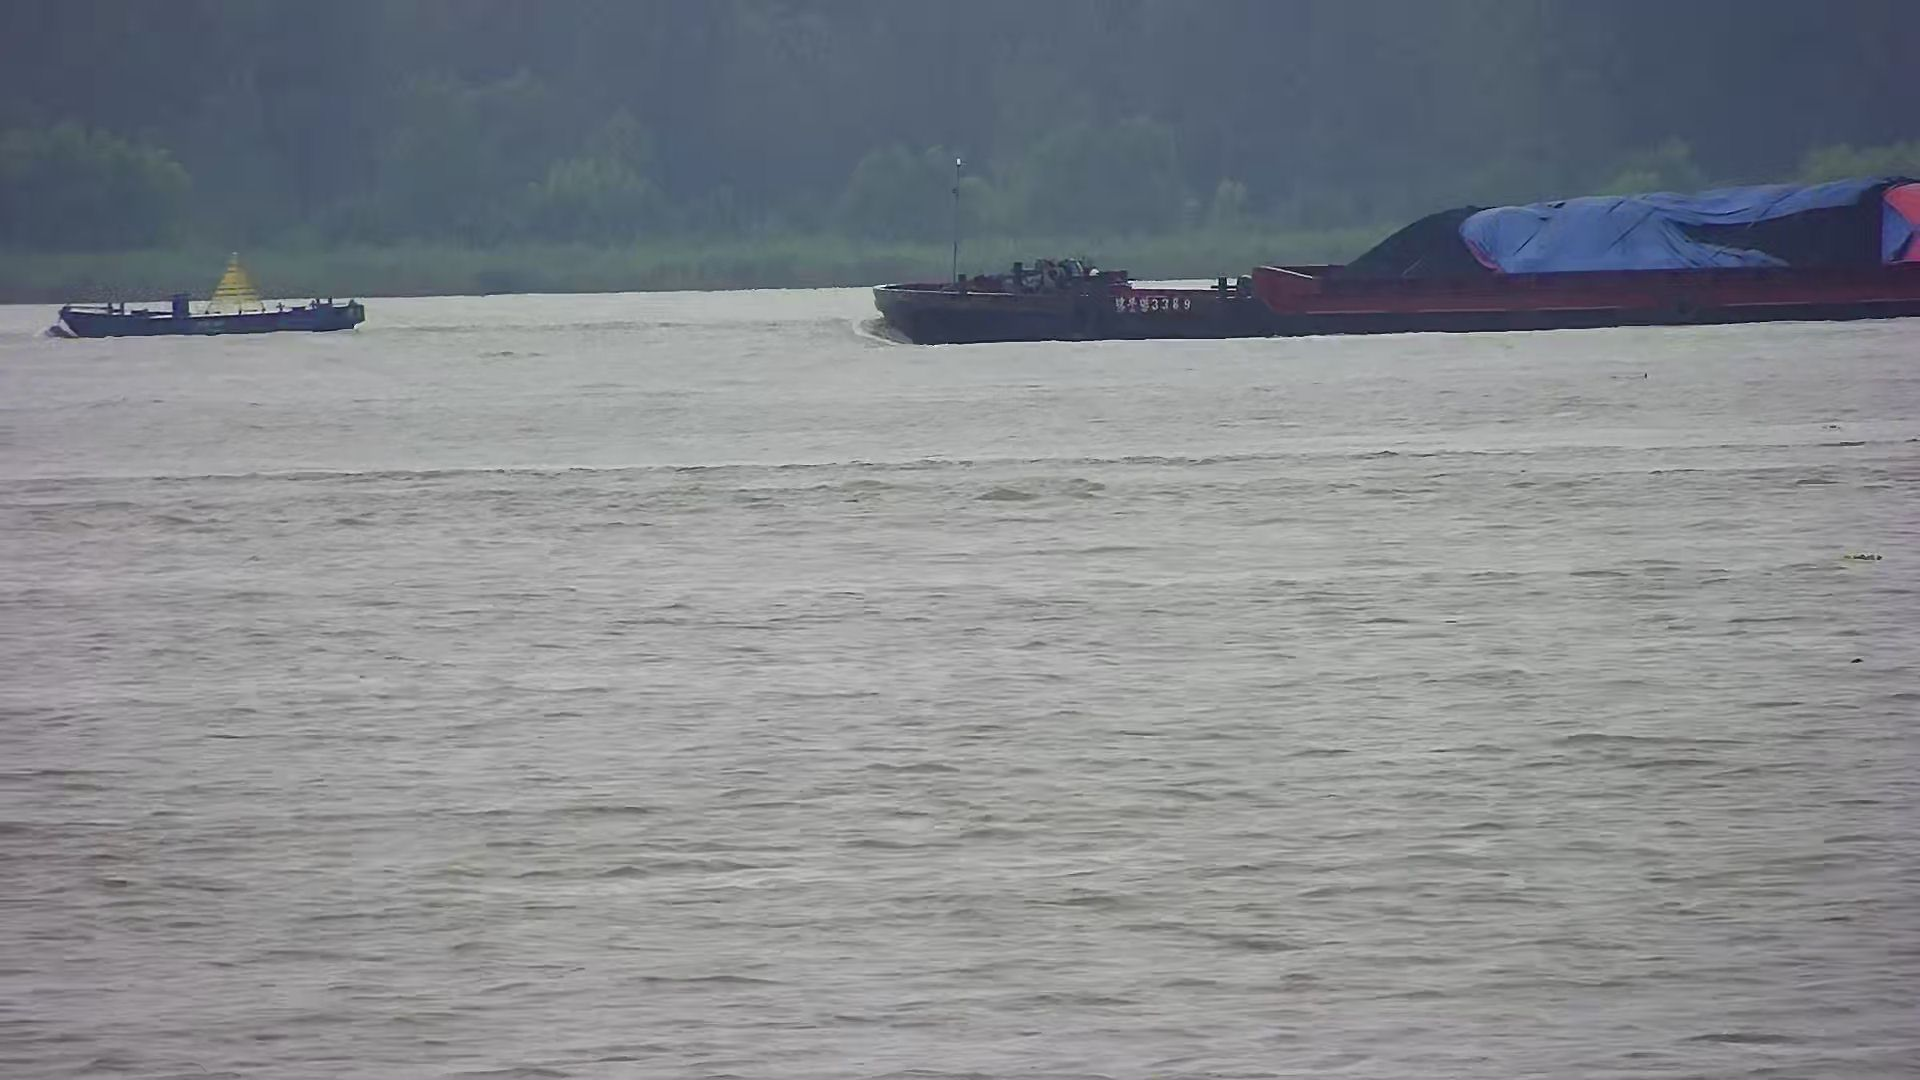boat: (62, 249, 367, 335)
ship: (861, 170, 1920, 343)
